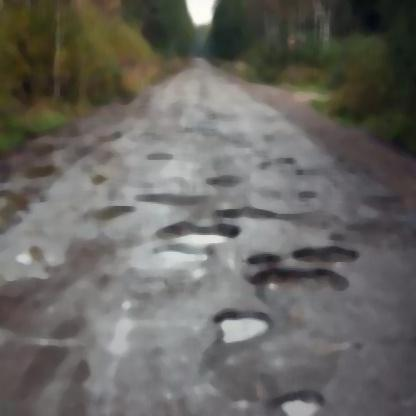Potholes: (255, 266, 351, 296), (219, 301, 269, 348), (162, 218, 235, 246), (86, 193, 139, 231), (274, 380, 328, 414), (203, 172, 243, 192), (261, 158, 301, 173)
